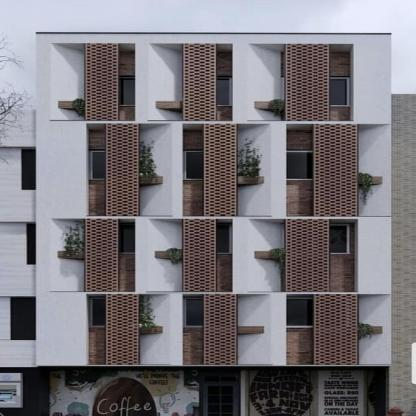Blind: (314, 123, 359, 216), (285, 44, 330, 121), (285, 219, 330, 291), (313, 294, 358, 365), (106, 123, 140, 216), (204, 123, 237, 216), (84, 44, 119, 121), (182, 44, 216, 121), (85, 219, 119, 291), (182, 219, 216, 291), (205, 294, 238, 365), (107, 294, 139, 365)
Building Outline: (35, 32, 392, 416)
Door: (199, 369, 240, 416)
Facade: (35, 32, 392, 416)
Floor: (35, 123, 392, 216), (35, 219, 392, 291), (35, 294, 392, 365)
Floor Slab: (35, 121, 392, 124), (35, 216, 392, 219), (35, 292, 392, 295), (35, 365, 392, 368)
Ground Floor: (35, 368, 392, 416)
Top Floor: (35, 33, 392, 121)
Window: (286, 297, 314, 328), (287, 150, 313, 180), (183, 297, 204, 328), (330, 223, 350, 254), (88, 297, 107, 328), (330, 77, 350, 106), (185, 151, 204, 180), (119, 223, 135, 254), (216, 223, 232, 254), (216, 77, 232, 106), (119, 77, 135, 106), (90, 150, 106, 179)
